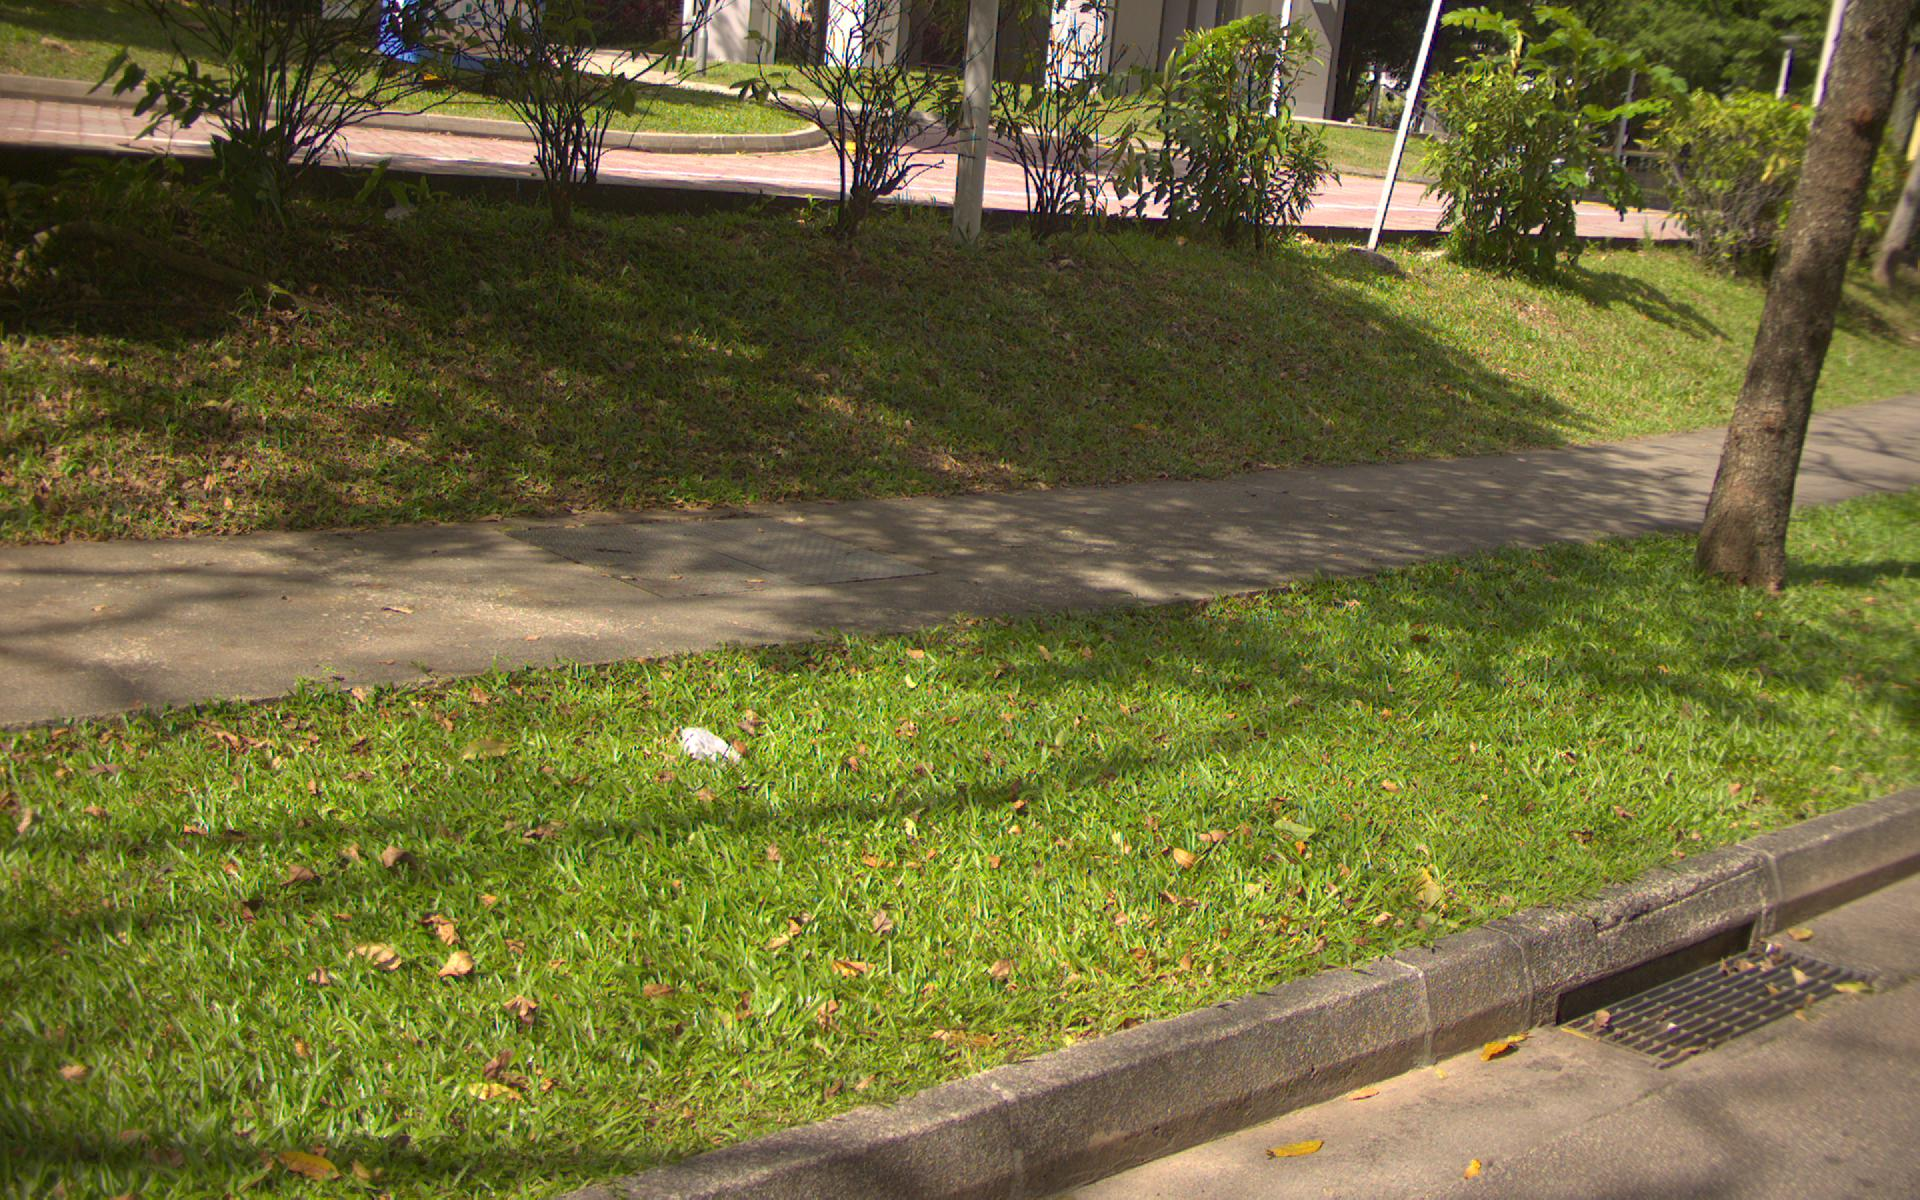curb_grill_low: (1550, 941, 1877, 1073)
road_curb_low: (1078, 883, 1906, 1193)
road_turf_low: (10, 517, 1913, 1185)
